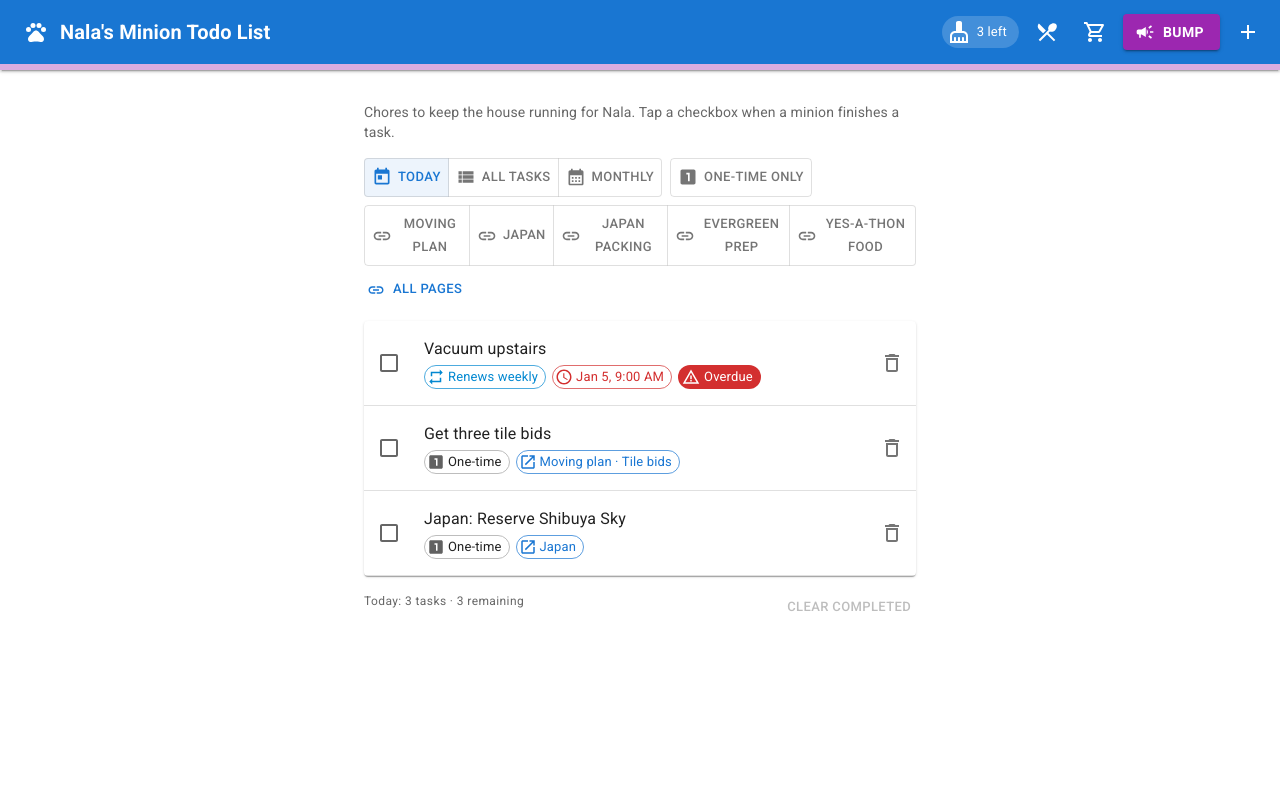
Test: filter by connected page › offers one button per registered page and narrows to that page
The width and height of the screenshot is (1280, 800).
Click the button with aria-label "all chores" at (503, 177), box [448,158,559,197]
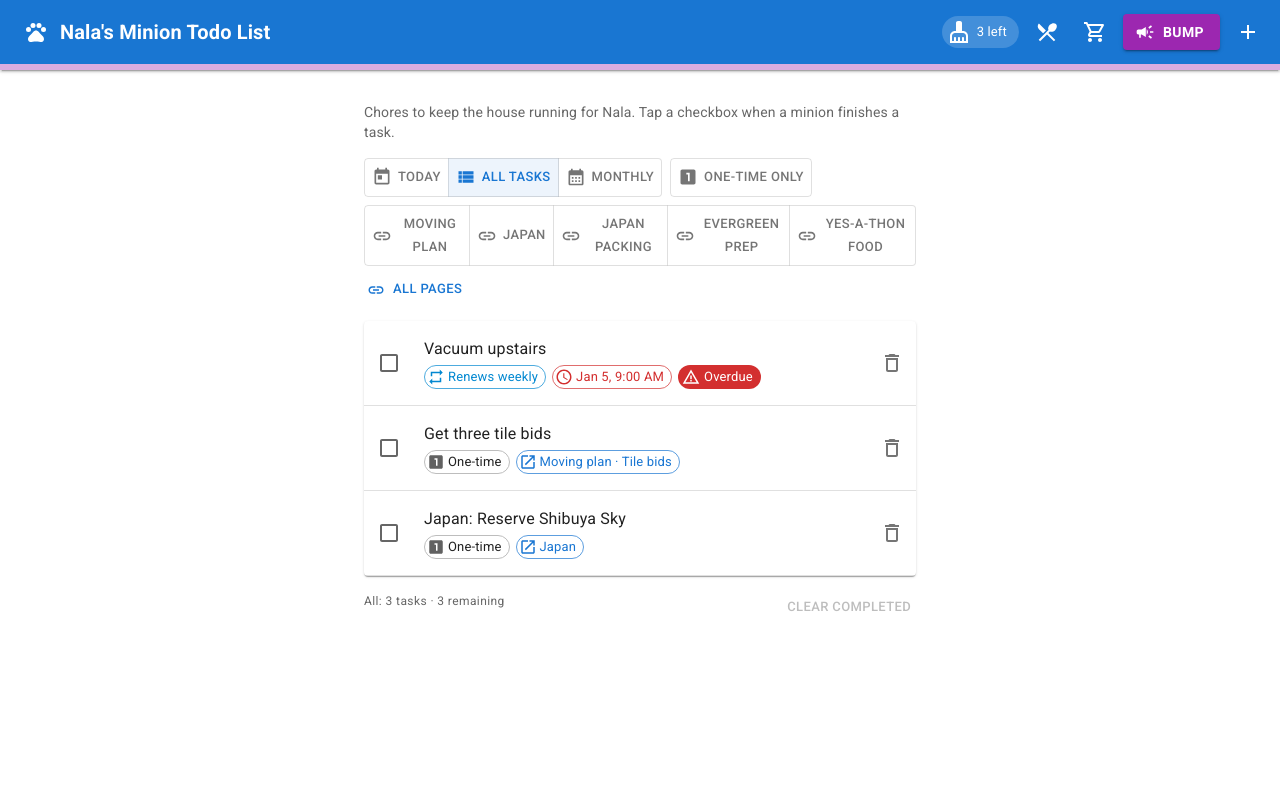
Expected: the text "Vacuum upstairs" is shown, [424,339,546,358]
Click the button with aria-label "moving plan chores only" at (417, 236), box [364,205,470,266]
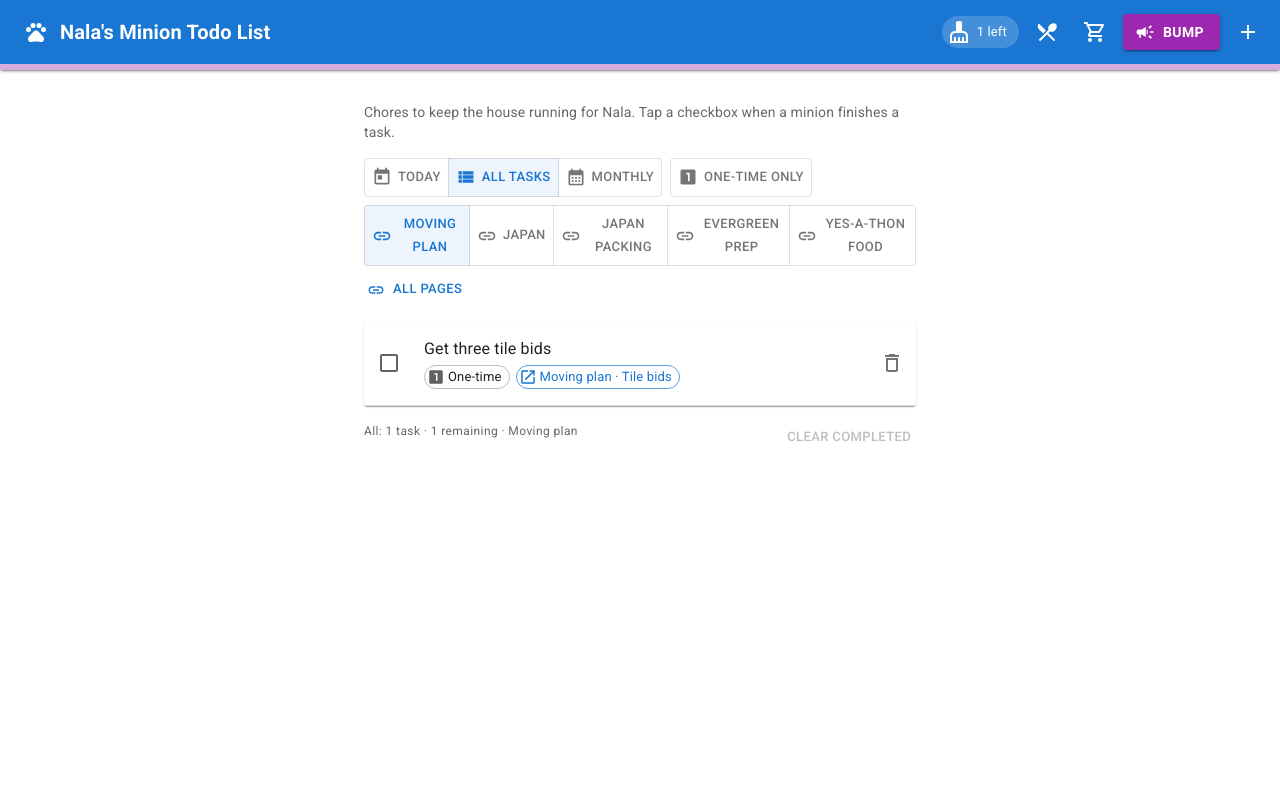
Expected: the text "Get three tile bids" is shown, [424,339,551,358]
Now the button "Vacuum upstairs" is gone
Now the button "Japan: Reserve Shibuya Sky" is gone
Note: A link alone (no project field) is enough to connect a chore to a page.
Click the button with aria-label "japan chores only" at (511, 236), box [469,205,554,266]
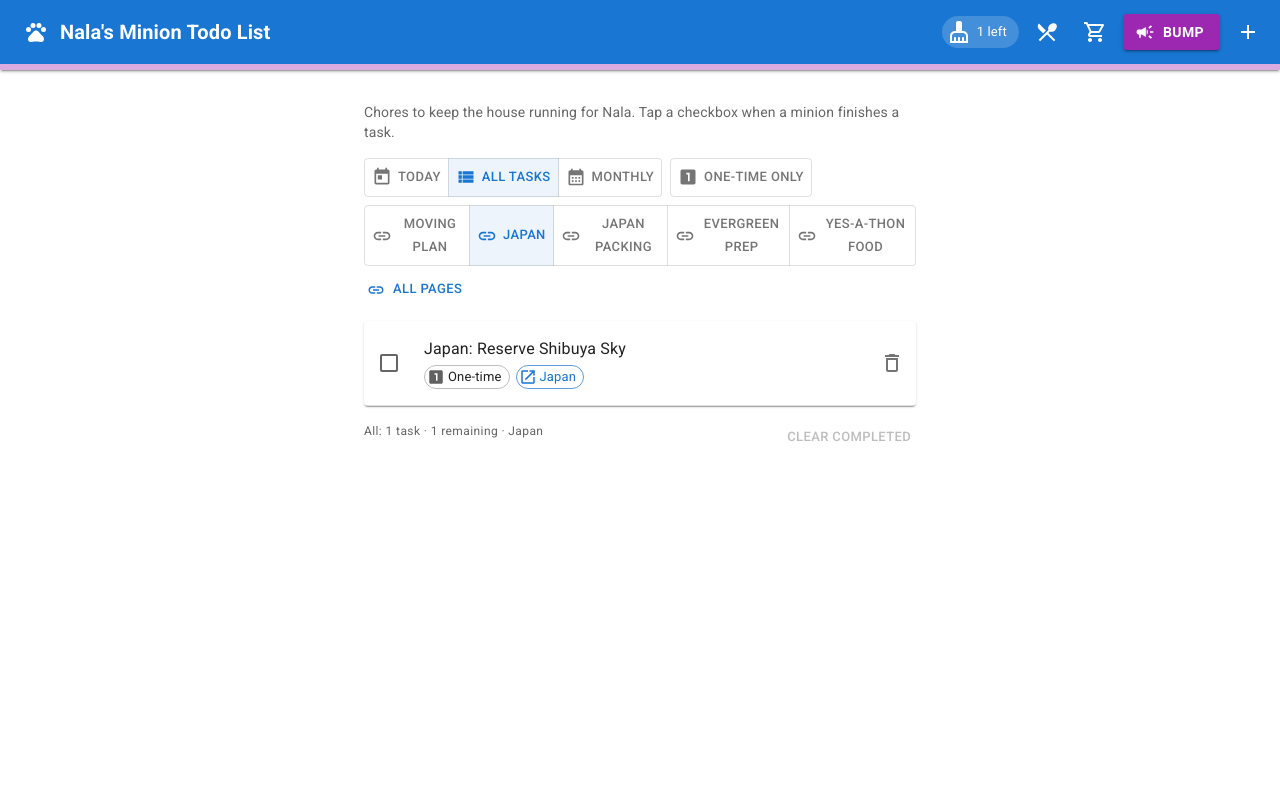
Now the text "Japan: Reserve Shibuya Sky" is shown, box [424,339,626,358]
Now the button "Get three tile bids" is gone
Note: Tapping the active page again clears the filter.
Click the button with aria-label "japan chores only" at (511, 236), box [469,205,554,266]
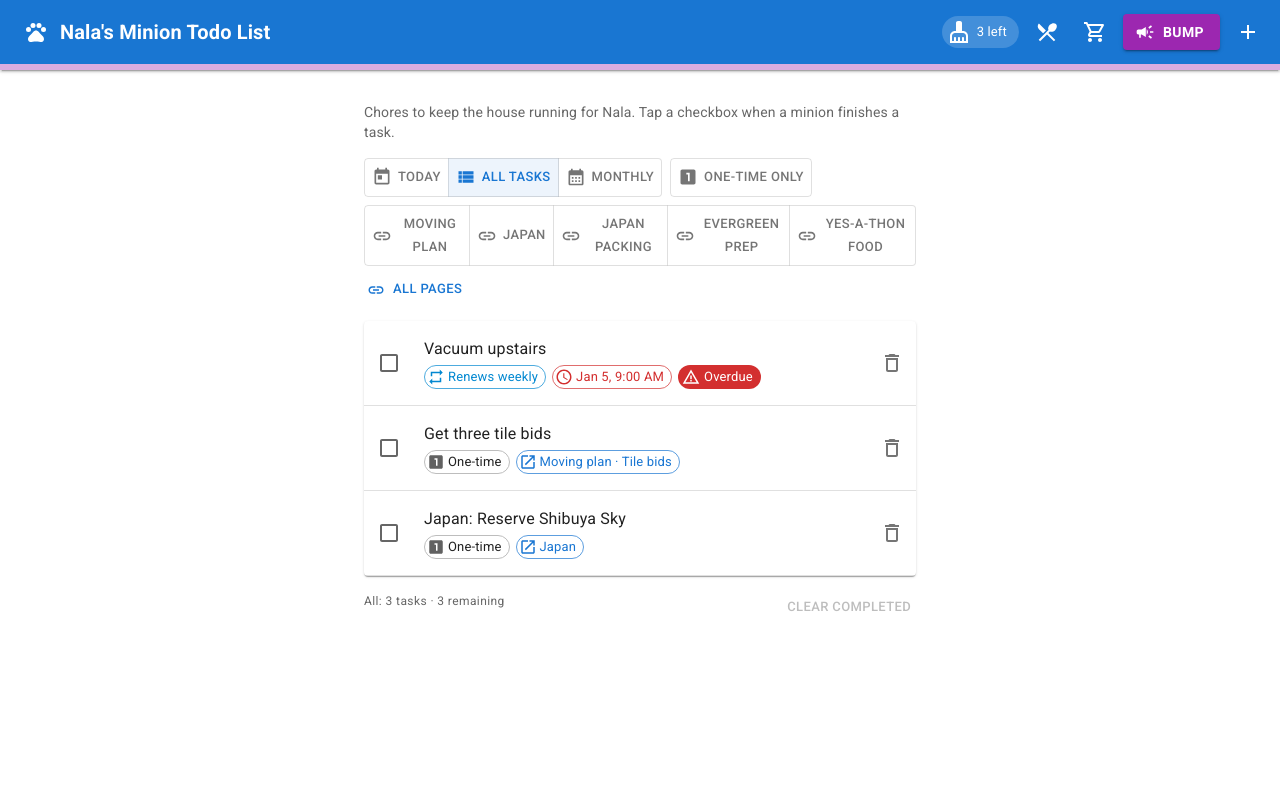
Now the text "Vacuum upstairs" is shown, box [424,339,546,358]
